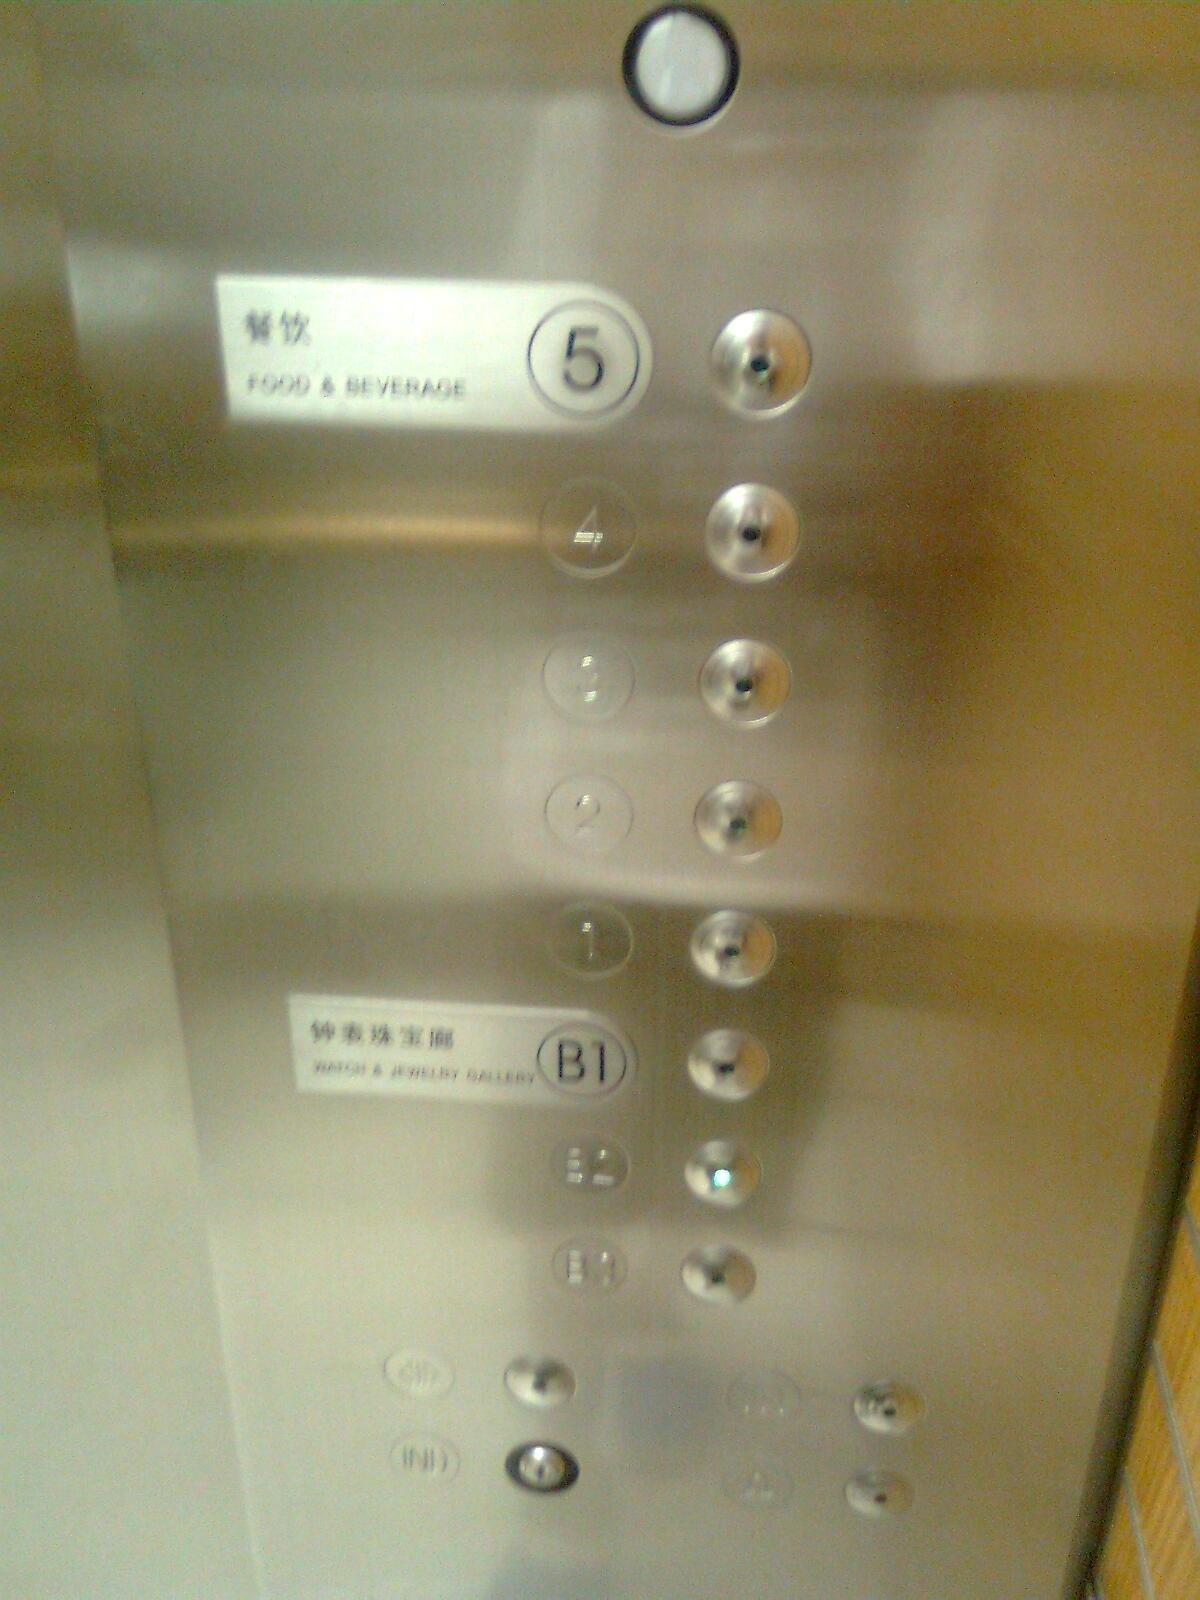1: (537, 894, 642, 989)
2: (536, 769, 642, 862)
3: (532, 631, 638, 729)
4: (534, 475, 647, 585)
5: (517, 290, 652, 427)
B1: (529, 1015, 635, 1109)
B2: (541, 1128, 637, 1212)
B3: (543, 1223, 639, 1308)
alarm: (711, 1445, 807, 1524)
close: (716, 1361, 812, 1439)
empty: (614, 1, 745, 139)
indicator: (697, 299, 822, 426), (688, 476, 812, 593), (677, 769, 794, 872), (692, 626, 800, 737), (679, 900, 785, 999), (676, 1015, 782, 1115), (671, 1233, 766, 1319), (492, 1337, 587, 1422), (674, 1130, 770, 1214), (829, 1458, 923, 1527), (837, 1374, 930, 1443)
keyhole: (495, 1432, 589, 1500)
open: (369, 1332, 465, 1417)
text: (376, 1425, 468, 1494)
